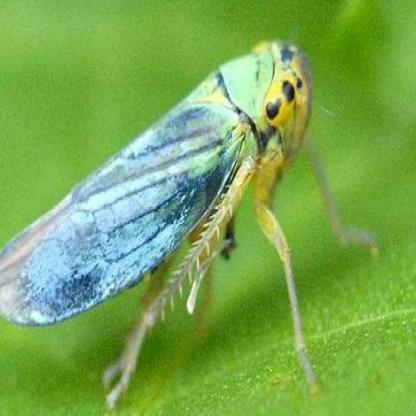Green-Leafhopper: (2, 37, 377, 413)
